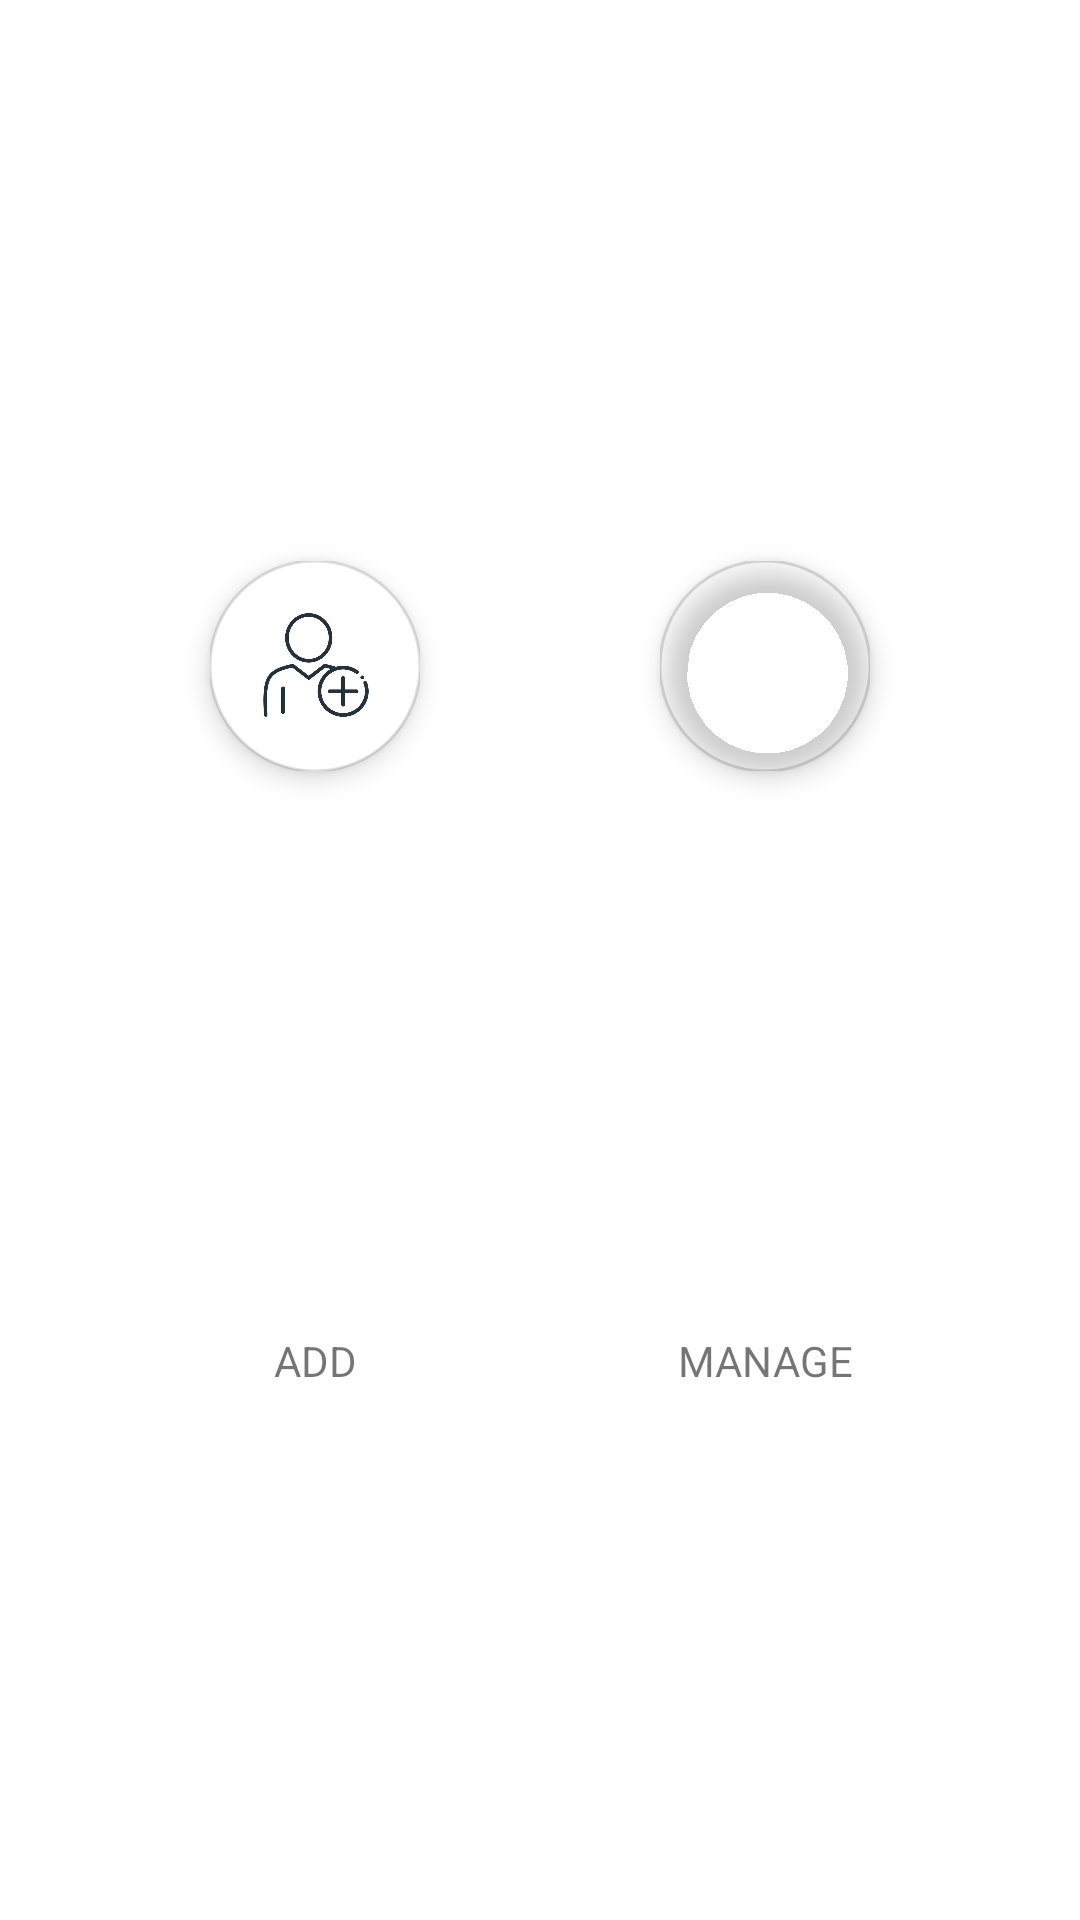

Named icons in this screenshot (1080×1920) and their centers, (x,y):
add: (315,666)
